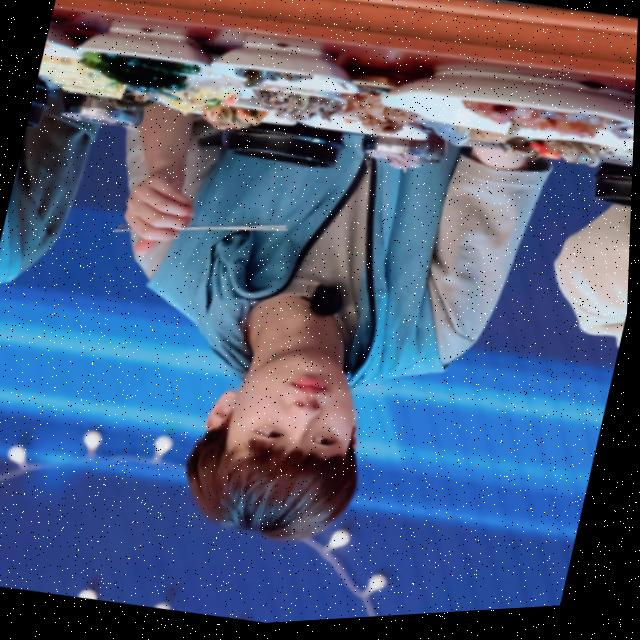eating-person: (21, 0, 602, 591)
